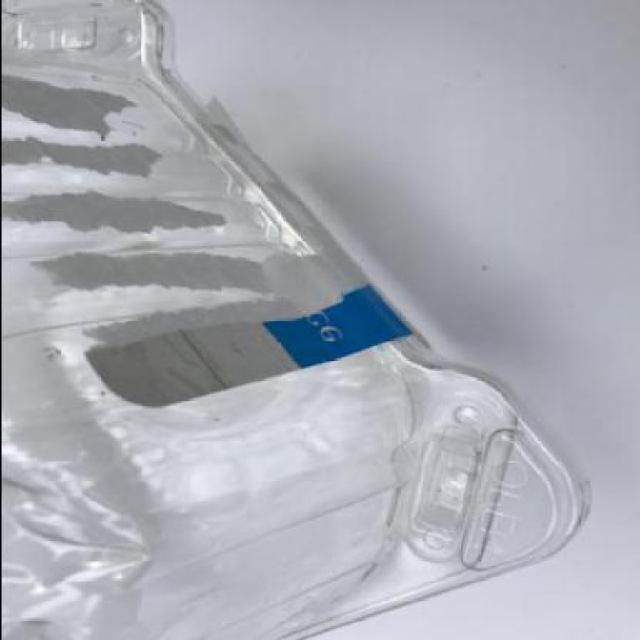PLASTIC: (2, 1, 590, 638)
